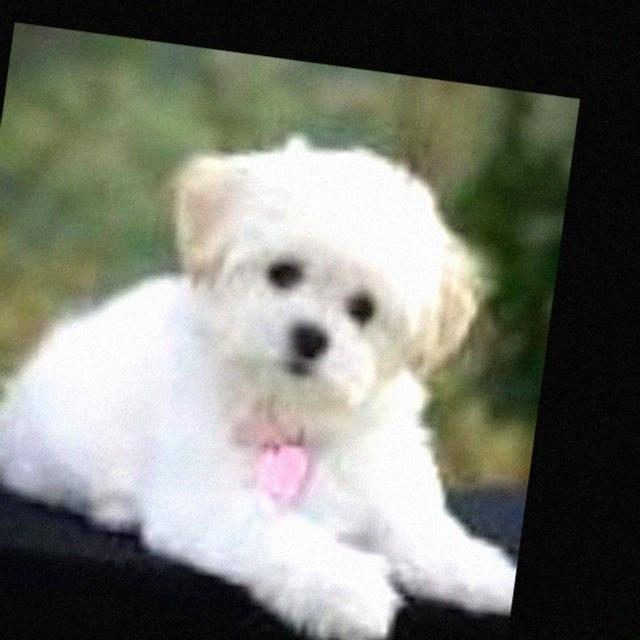dog: (136, 97, 549, 460)
